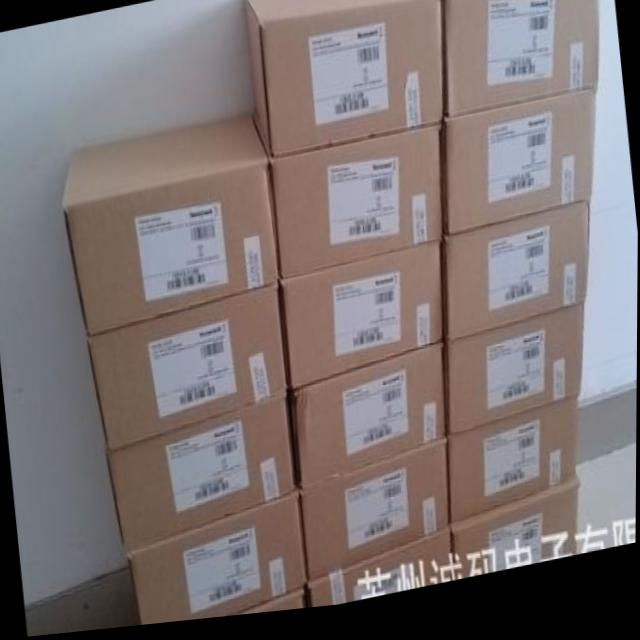box: (62, 117, 281, 338), (87, 289, 288, 455), (242, 0, 443, 165), (106, 405, 296, 560), (271, 132, 442, 285), (281, 250, 443, 401), (129, 498, 307, 628), (292, 352, 447, 495), (300, 442, 447, 592), (444, 102, 596, 245), (442, 210, 592, 349), (442, 0, 600, 127), (446, 316, 585, 447), (448, 407, 578, 530), (447, 489, 580, 588), (308, 532, 453, 614), (227, 595, 308, 621)
